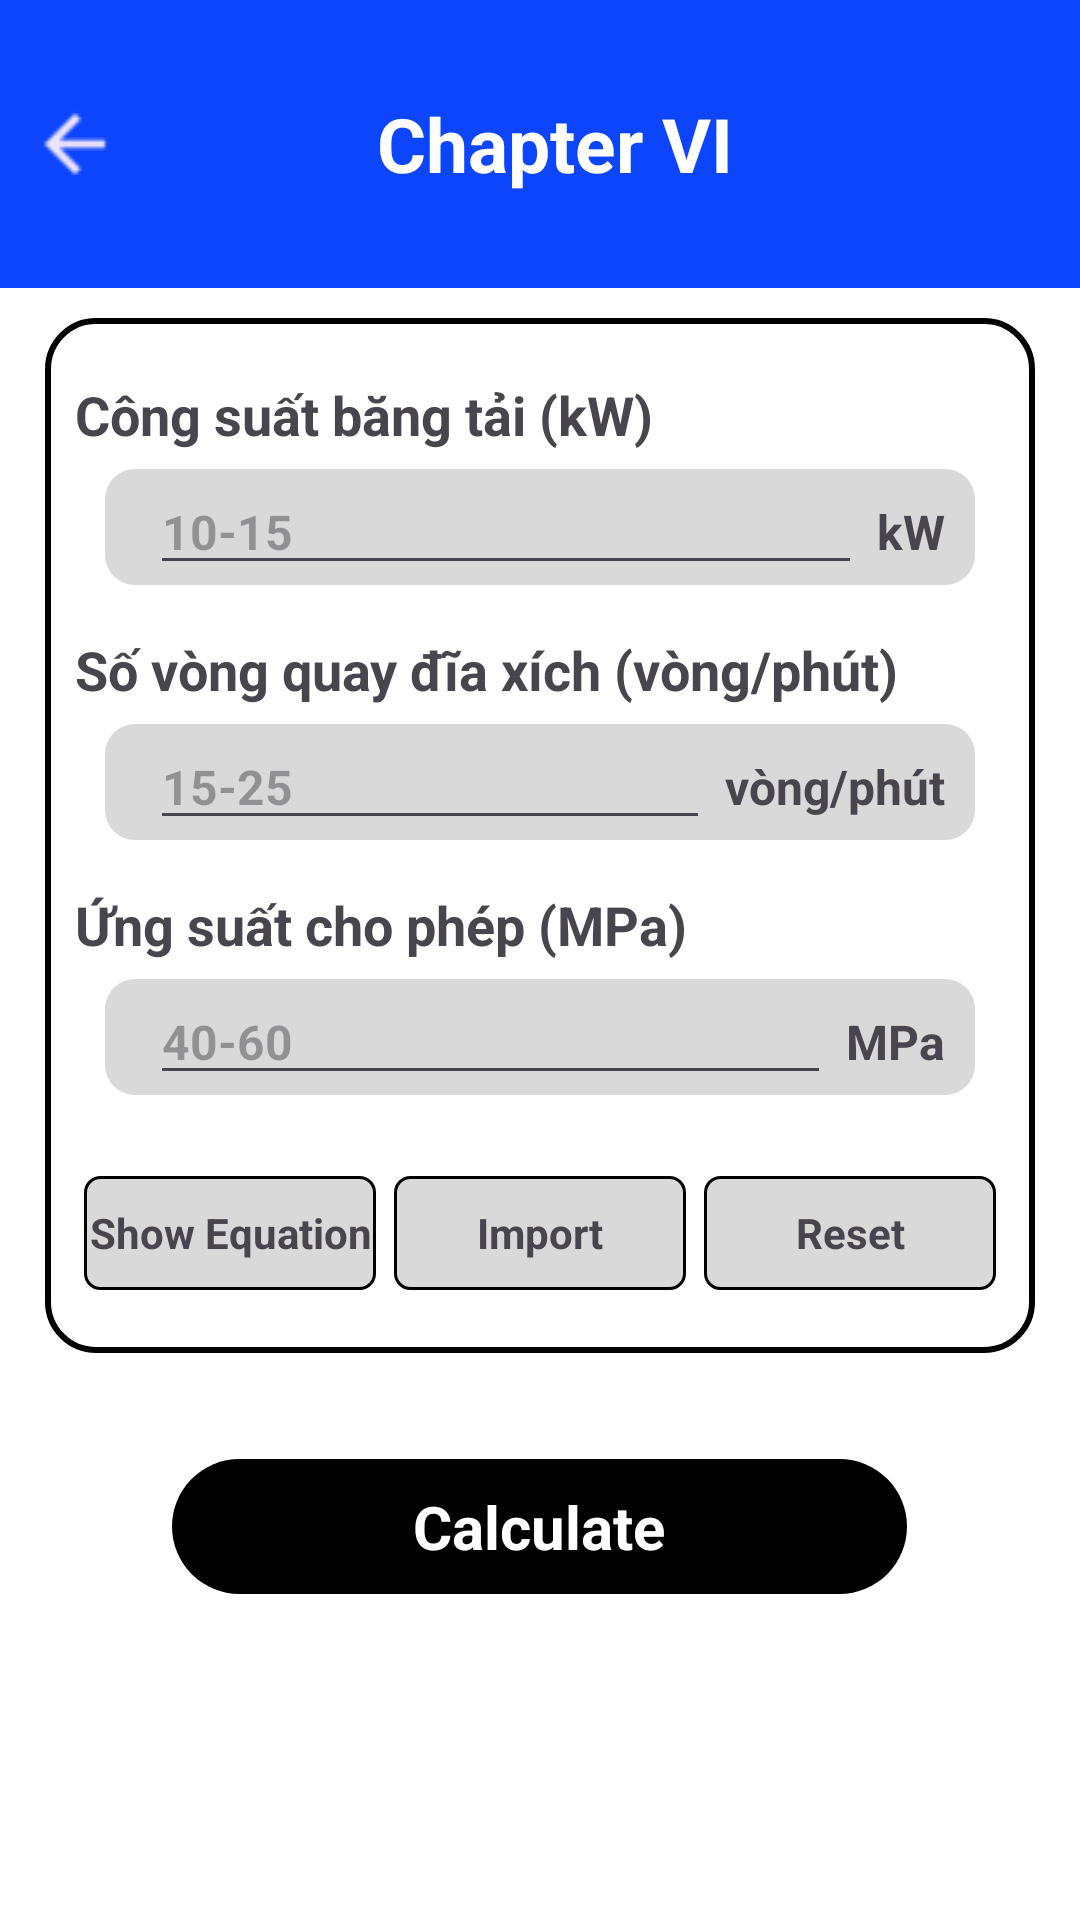

Locate icon controls on the screen. Image size 1080×1920, boxes as (x1, y1, x2, y2).
arrow back: (44, 113, 106, 175)
